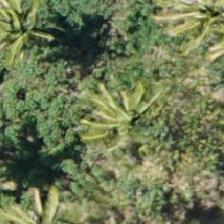coconut_tree: (68, 69, 158, 159), (0, 0, 67, 78), (4, 169, 94, 223), (162, 0, 223, 78)
